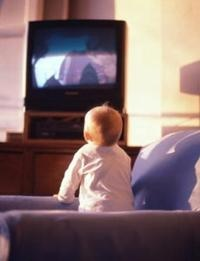person without safety: (74, 100, 136, 186)
